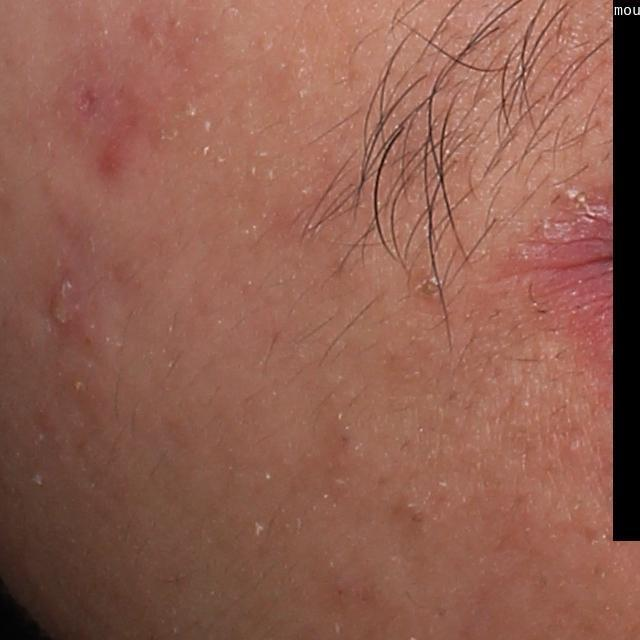atrophic_scar: (77, 85, 101, 115)
comedo: (417, 277, 442, 302), (564, 435, 585, 455)
